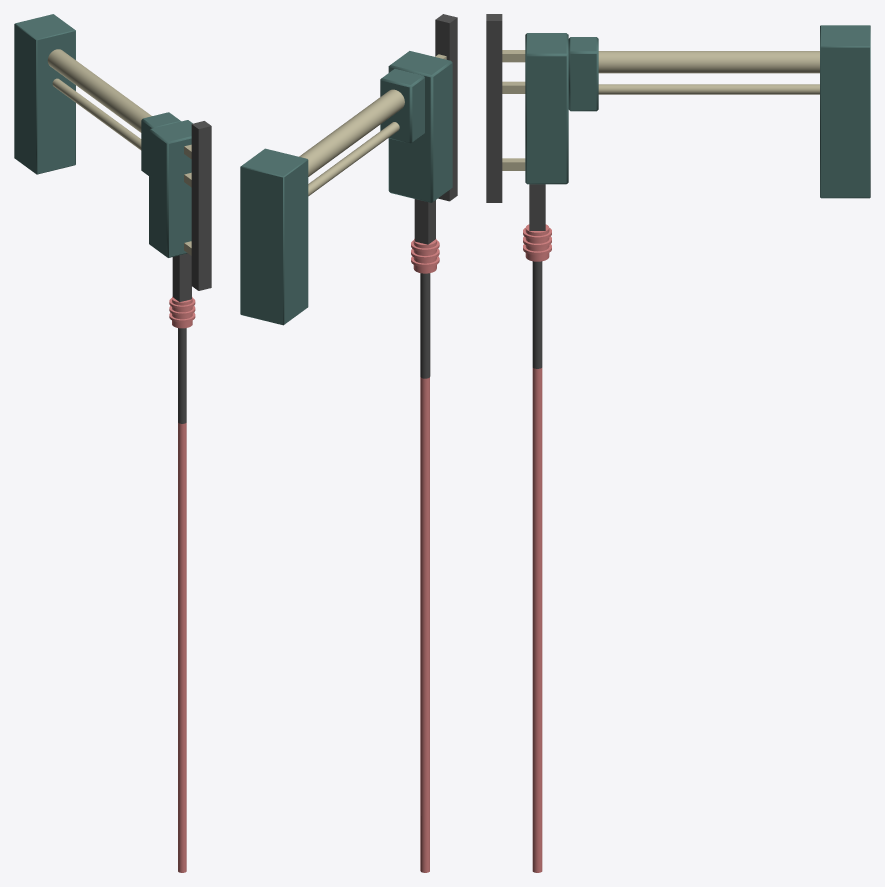
The picture shows the model from 3 angles, left to right: view 1: azimuth 30°, elevation 25°; view 2: azimuth 150°, elevation 25°; view 3: azimuth 270°, elevation 25°; orthographic projection. The views are drawn at different scales.
Parts seen in each view (by area): view 1: end_block, main_housing, stem, upright, upper_rod, lower_rod, shank, dark_stem, collar; view 2: end_block, main_housing, stem, upper_rod, upright, lower_rod, dark_stem, shank, collar; view 3: main_housing, end_block, stem, upper_rod, upright, lower_rod, dark_stem, collar, shank.
Part boxes in pixels (x1,y1,x2,y2): end_block: (14, 14, 75, 174); main_housing: (141, 112, 192, 257); stem: (178, 423, 186, 872); upright: (191, 121, 211, 290); upper_rod: (47, 49, 151, 132); lower_rod: (52, 78, 141, 150); shank: (172, 253, 191, 301); dark_stem: (178, 328, 186, 423); collar: (169, 297, 195, 328); end_block: (240, 148, 308, 325); main_housing: (380, 51, 452, 202); stem: (420, 377, 429, 872); upper_rod: (299, 89, 404, 176); upright: (435, 14, 457, 201); lower_rod: (308, 122, 399, 196); dark_stem: (420, 273, 430, 378); shank: (414, 199, 435, 244); collar: (411, 239, 439, 273); main_housing: (525, 33, 598, 184); end_block: (820, 25, 870, 198); stem: (532, 368, 542, 872); upper_rod: (598, 51, 819, 73); upright: (486, 14, 502, 202); lower_rod: (598, 84, 819, 94); dark_stem: (532, 261, 542, 368); collar: (523, 224, 551, 261); shank: (529, 184, 545, 230).
Size of the model in its own units: 0.0557 by 1 by 0.4085.
